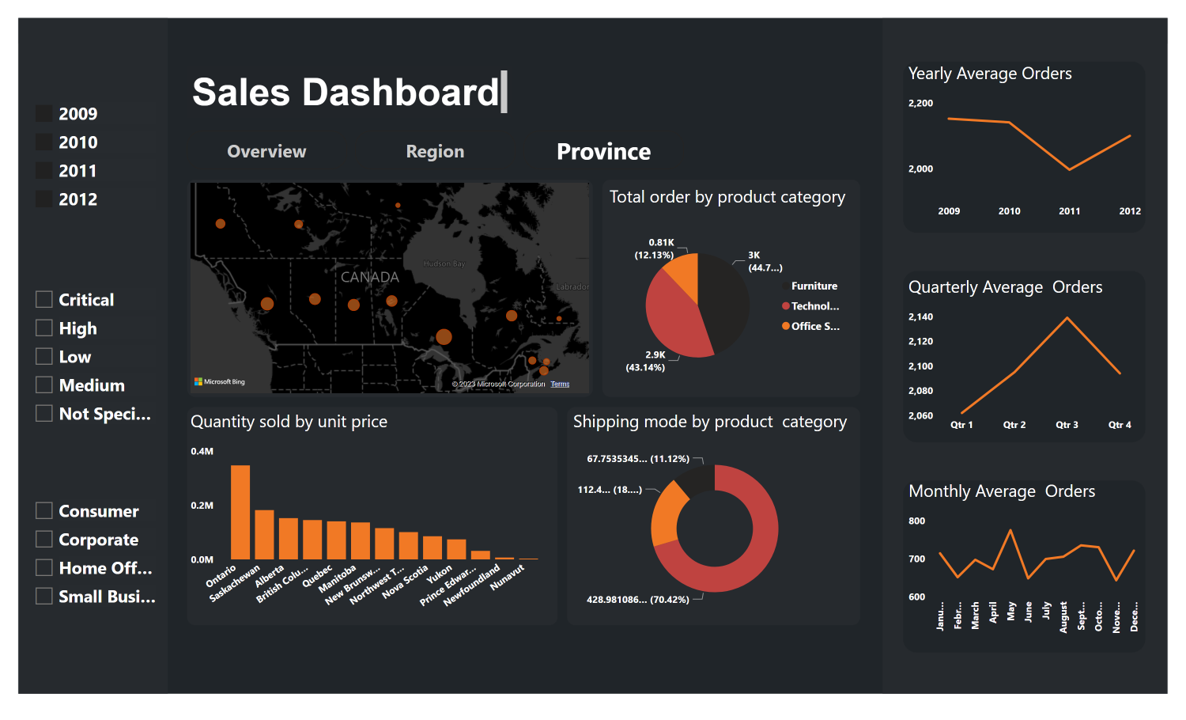

The page's visual inventory and layout, read from the dashboard file:
{"tool":"powerbi","page":{"name":"Province","canvas":[1500,900],"ordinal":2},"visuals":[{"type":"textbox","box":[235.7,83.7,410.6,64.6],"z":0},{"type":"pageNavigator","box":[235.7,165.4,629.3,49.4],"z":1000},{"type":"slicer","fields":{"Values":["Table1_2.Order Date Corrected.Variation.Date Hierarchy.Year"]},"box":[32,120,170,166],"z":1001},{"type":"slicer","fields":{"Values":["Table1_2.Order Priority"]},"box":[32,355,170,198],"z":1002},{"type":"slicer","fields":{"Values":["Table1_2.Customer Segment"]},"box":[32,622,170,158],"z":1003},{"type":"lineChart","fields":{"Category":["Table1_2.Order Date Corrected.Variation.Date Hierarchy.Quarter"],"Y":["CountNonNull(Table1_2.Order ID)"]},"box":[1144.5,385.9,304.2,169.2],"z":1004},{"type":"textbox","box":[1144,342,304,44],"z":1005},{"type":"lineChart","fields":{"Category":["Table1_2.Order Date Corrected.Variation.Date Hierarchy.Month"],"Y":["CountNonNull(Table1_2.Order ID)"]},"box":[1144.5,644.5,304.2,169.2],"z":1006},{"type":"lineChart","fields":{"Category":["Table1_2.Order Date Corrected.Variation.Date Hierarchy.Year"],"Y":["CountNonNull(Table1_2.Order ID)"]},"box":[1144.5,116,304.2,169.2],"z":1007},{"type":"textbox","box":[1144,600,304,44],"z":1008},{"type":"textbox","box":[1144,72,304,44],"z":1009},{"type":"textbox","box":[252,228,348,44],"z":1010},{"type":"textbox","box":[236,512,348,44],"z":1011},{"type":"textbox","box":[766,228,348,44],"z":1012},{"type":"textbox","box":[720,512,366,44],"z":1013},{"type":"map","fields":{"Size":["CountNonNull(Table1_2.Order ID)"],"Category":["Table1_2.Province"]},"box":[236,226,514,276],"z":1014},{"type":"columnChart","fields":{"Y":["Sum(Table1_2.Profit)"],"Category":["Table1_2.Province"]},"box":[236,556,462,224],"z":1015},{"type":"donutChart","fields":{"Category":["Table1_2.Product Category"],"Y":["Avg(Table1_2.Profit)"]},"box":[724,556,360,224],"z":1016},{"type":"pieChart","fields":{"Y":["Avg(Table1_2.Sales)"],"Category":["Table1_2.Product Category"]},"box":[772,270,312,232],"z":1017}]}

Visuals, with their boxes in screenshot pixels (x1, y1, x2, y2), scaled from the page's 1500x900 canvas onto the 1186x720 screenshot:
textbox: l=186, t=67, r=511, b=119
pageNavigator: l=186, t=132, r=684, b=172
slicer - Table1_2.Order Date Corrected.Variation.Date Hierarchy.Year: l=25, t=96, r=160, b=229
slicer - Table1_2.Order Priority: l=25, t=284, r=160, b=442
slicer - Table1_2.Customer Segment: l=25, t=498, r=160, b=624
lineChart - Table1_2.Order Date Corrected.Variation.Date Hierarchy.Quarter x CountNonNull(Table1_2.Order ID): l=905, t=309, r=1145, b=444
textbox: l=905, t=274, r=1145, b=309
lineChart - Table1_2.Order Date Corrected.Variation.Date Hierarchy.Month x CountNonNull(Table1_2.Order ID): l=905, t=516, r=1145, b=651
lineChart - Table1_2.Order Date Corrected.Variation.Date Hierarchy.Year x CountNonNull(Table1_2.Order ID): l=905, t=93, r=1145, b=228
textbox: l=905, t=480, r=1145, b=515
textbox: l=905, t=58, r=1145, b=93
textbox: l=199, t=182, r=474, b=218
textbox: l=187, t=410, r=462, b=445
textbox: l=606, t=182, r=881, b=218
textbox: l=569, t=410, r=859, b=445
map - CountNonNull(Table1_2.Order ID) x Table1_2.Province: l=187, t=181, r=593, b=402
columnChart - Sum(Table1_2.Profit) x Table1_2.Province: l=187, t=445, r=552, b=624
donutChart - Table1_2.Product Category x Avg(Table1_2.Profit): l=572, t=445, r=857, b=624
pieChart - Avg(Table1_2.Sales) x Table1_2.Product Category: l=610, t=216, r=857, b=402
